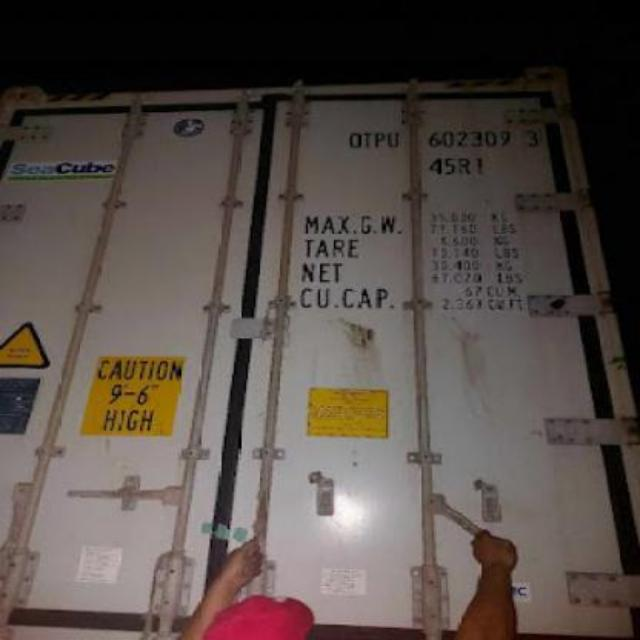0: (441, 126, 454, 150), (484, 128, 496, 148)
2: (454, 125, 468, 151)
3: (524, 120, 540, 150), (471, 128, 484, 148)
6: (426, 127, 439, 151)
9: (496, 126, 509, 150)
O: (346, 127, 362, 151)
P: (374, 128, 386, 156)
T: (361, 127, 374, 151)
U: (386, 127, 404, 153)
